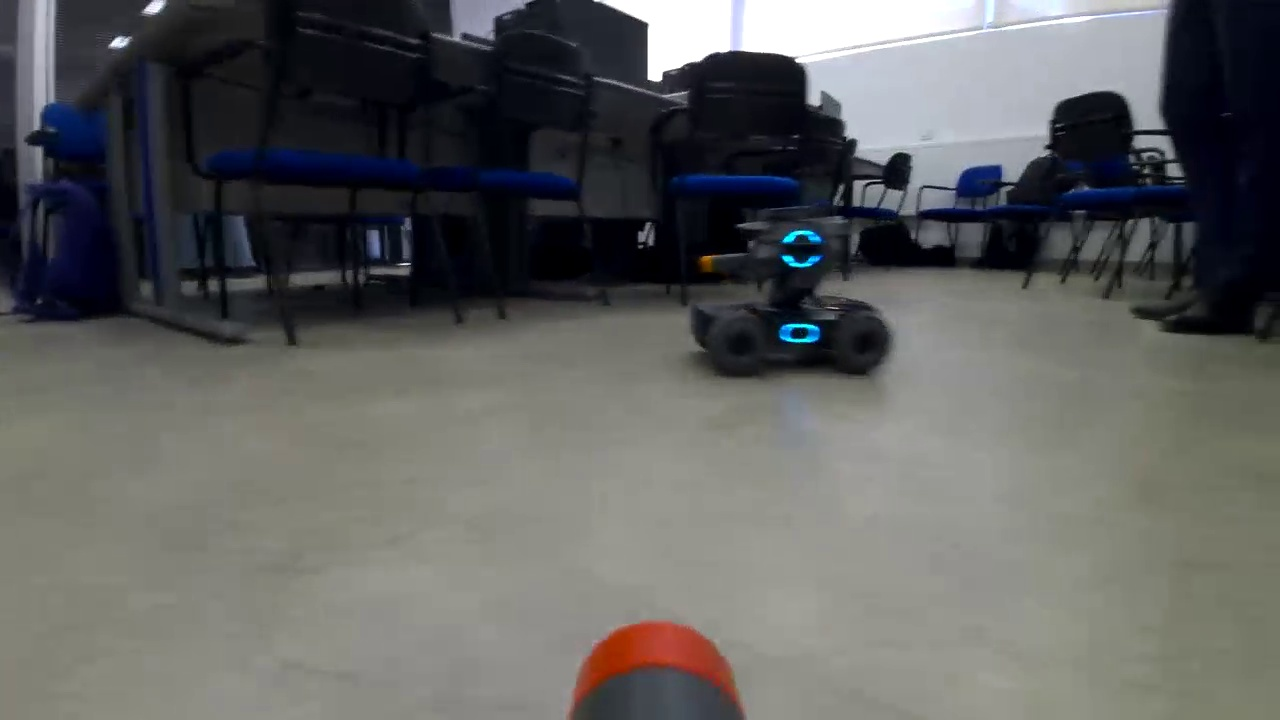robot: (678, 196, 896, 394)
